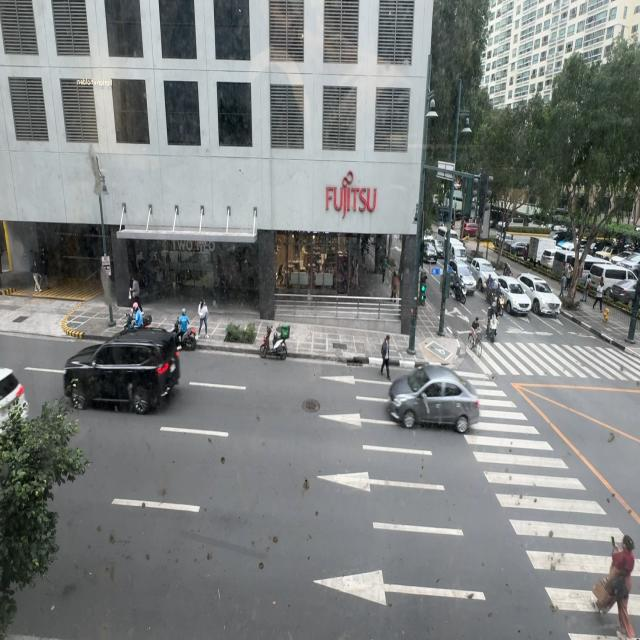crossing: (595, 534, 637, 639)
jaywalking: (380, 336, 390, 381)
pedestrain: (198, 299, 209, 340), (40, 252, 50, 289), (32, 257, 42, 292), (592, 281, 604, 310), (582, 275, 590, 304)
